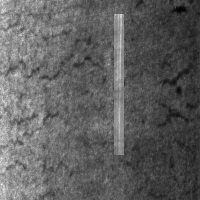crazing: (126, 49, 200, 198), (3, 2, 105, 96), (4, 110, 89, 200)
scratches: (114, 14, 124, 155)
